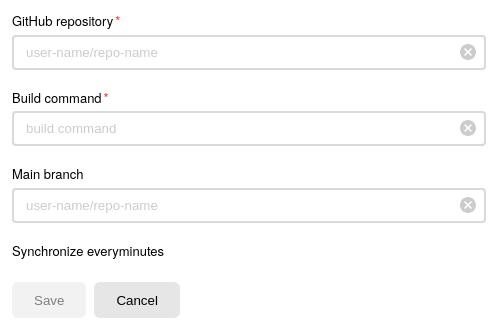
Форма настроек › Инпут очищается по клику на крестик "Очистить"
Type "input text" into the field with test id "form-repository".
click(249, 52); type("input text")  # box [12,35,486,70]
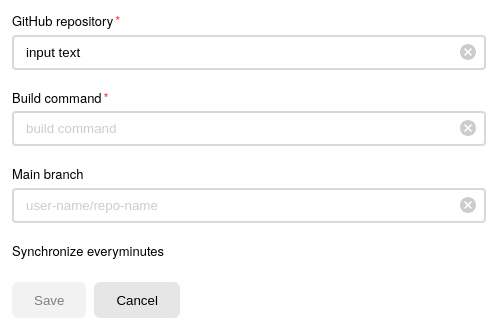
Click the icon with test id "form-repository-clear-btn".
click(468, 52)  # box [460,44,476,60]
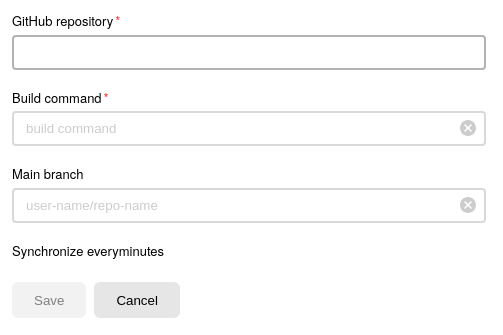
Expected: the field with test id "form-repository" is empty, [12,35,486,70]
Type "input text" into the field with test id "form-command".
click(249, 129); type("input text")  # box [12,111,486,146]
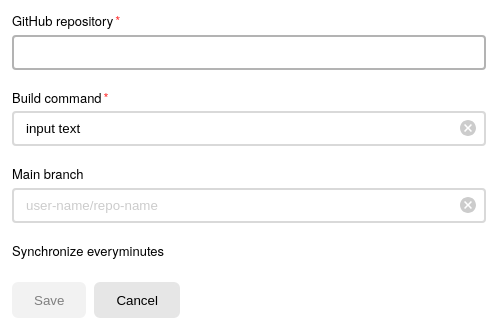
Click the icon with test id "form-command-clear-btn".
click(468, 128)  # box [460,120,476,136]
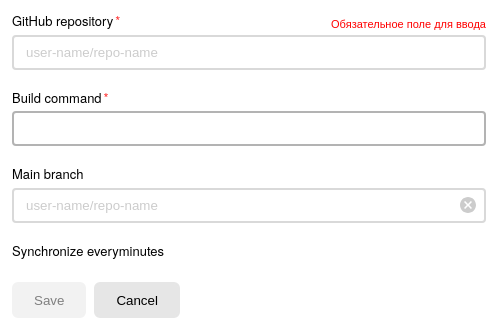
Expected: the field with test id "form-command" is empty, [12,111,486,146]
Type "input text" into the field with test id "form-branch".
click(249, 205); type("input text")  # box [12,188,486,223]
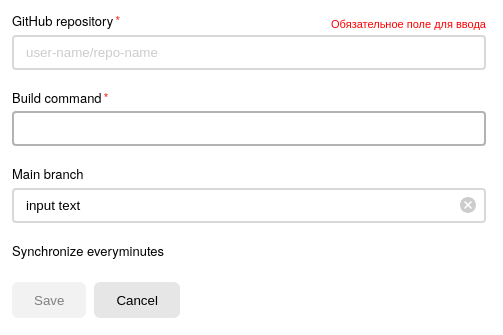
Click the icon with test id "form-branch-clear-btn".
click(468, 205)  # box [460,197,476,213]
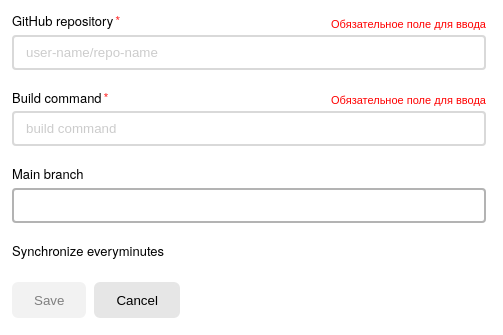
Expected: the field with test id "form-branch" is empty, [12,188,486,223]
